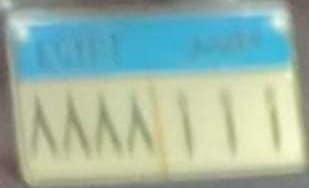8: (26, 74, 63, 170), (58, 85, 92, 163), (122, 79, 151, 157), (96, 85, 119, 158)
أ: (209, 80, 242, 161), (261, 73, 288, 163), (167, 87, 196, 168)
